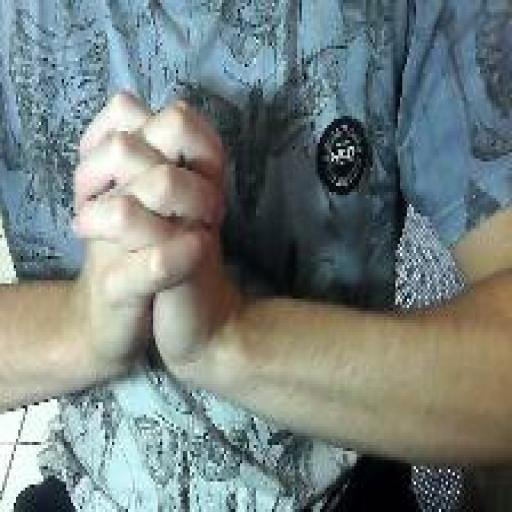Mi -snake-: (66, 84, 231, 398)
